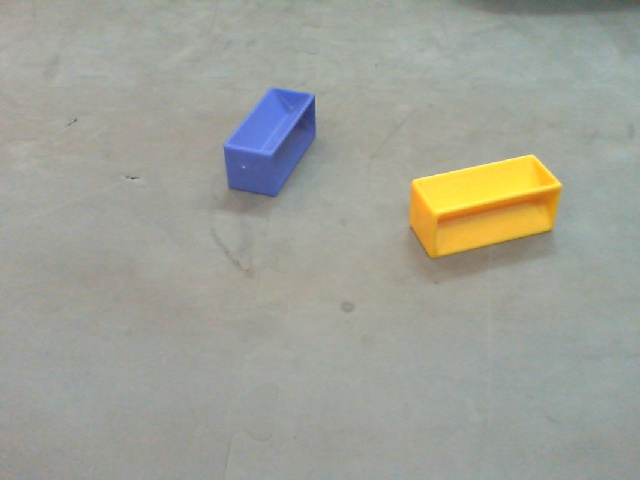BlueSample: (217, 85, 329, 200)
YellowSample: (406, 152, 565, 262)
